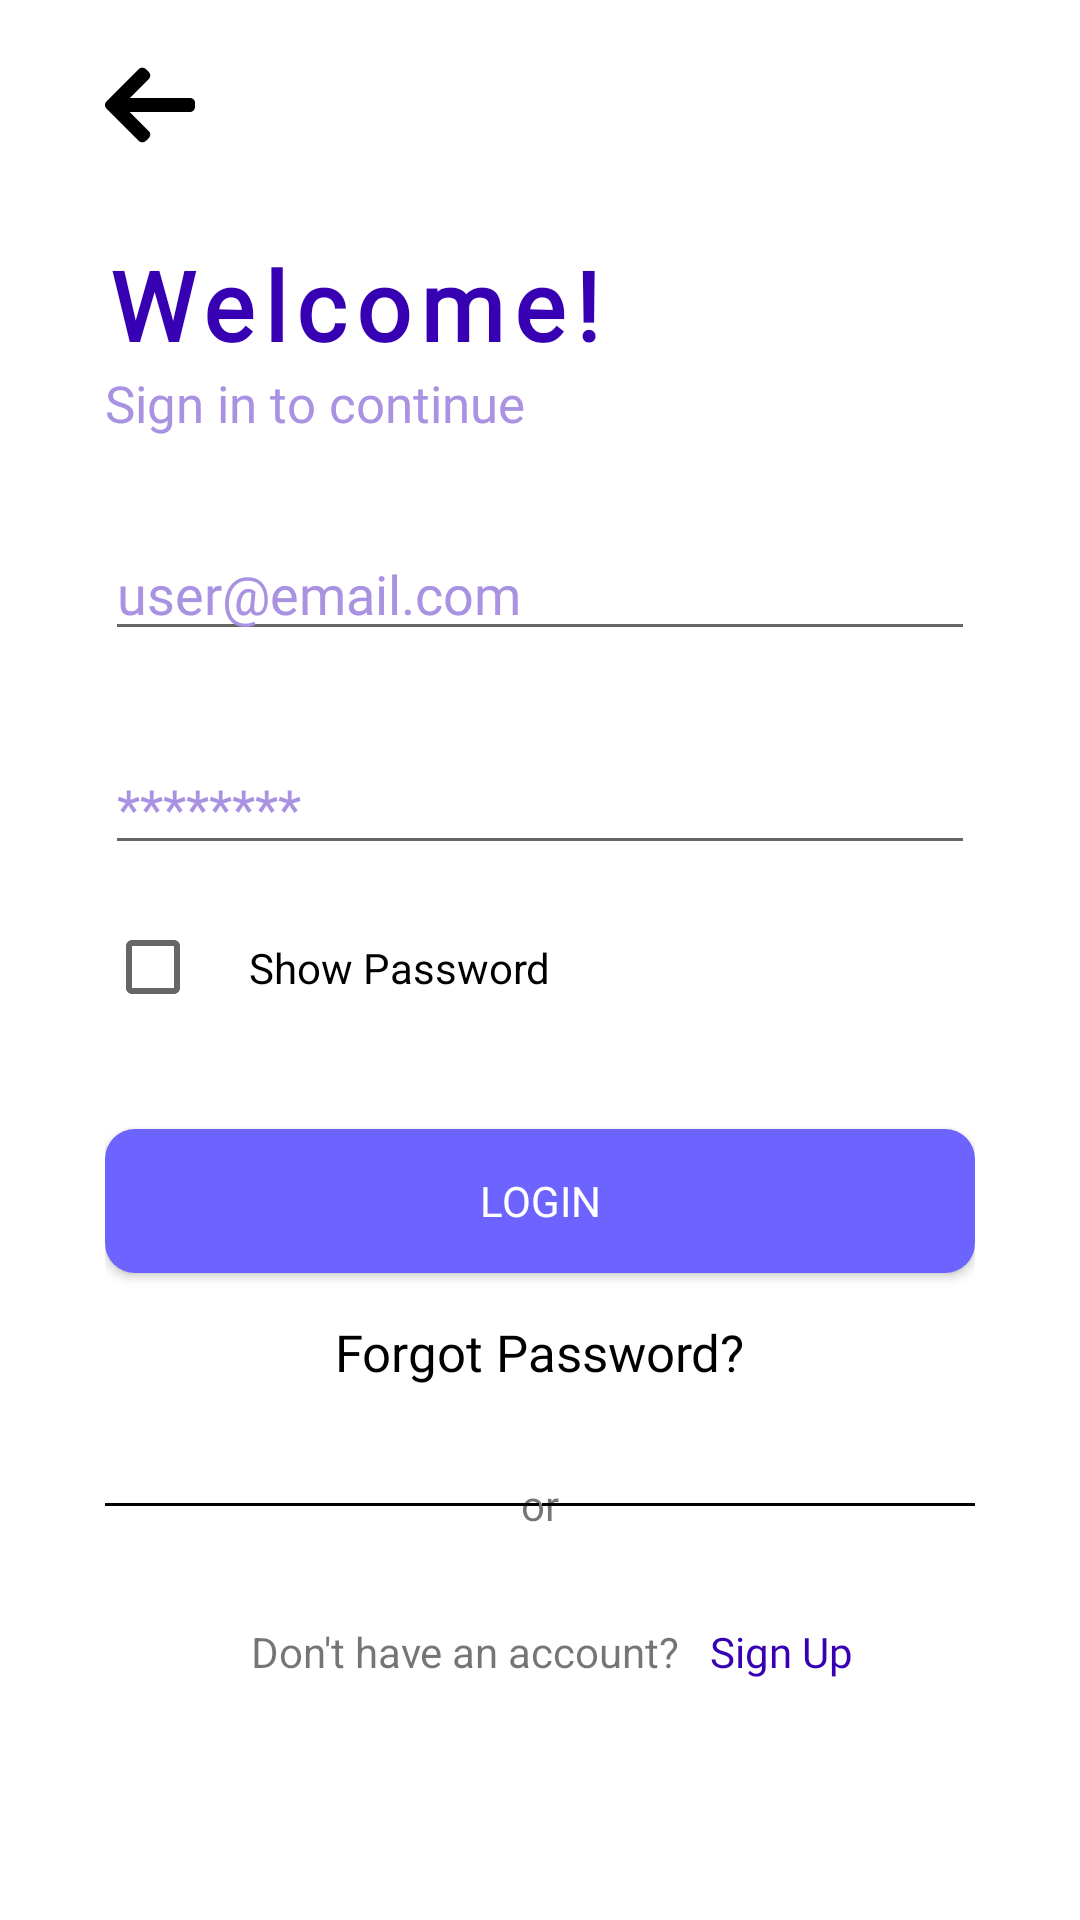

Where to tap for icons on this 1080x1920 app screen, as [x,y]:
left arrow: [150,105]
